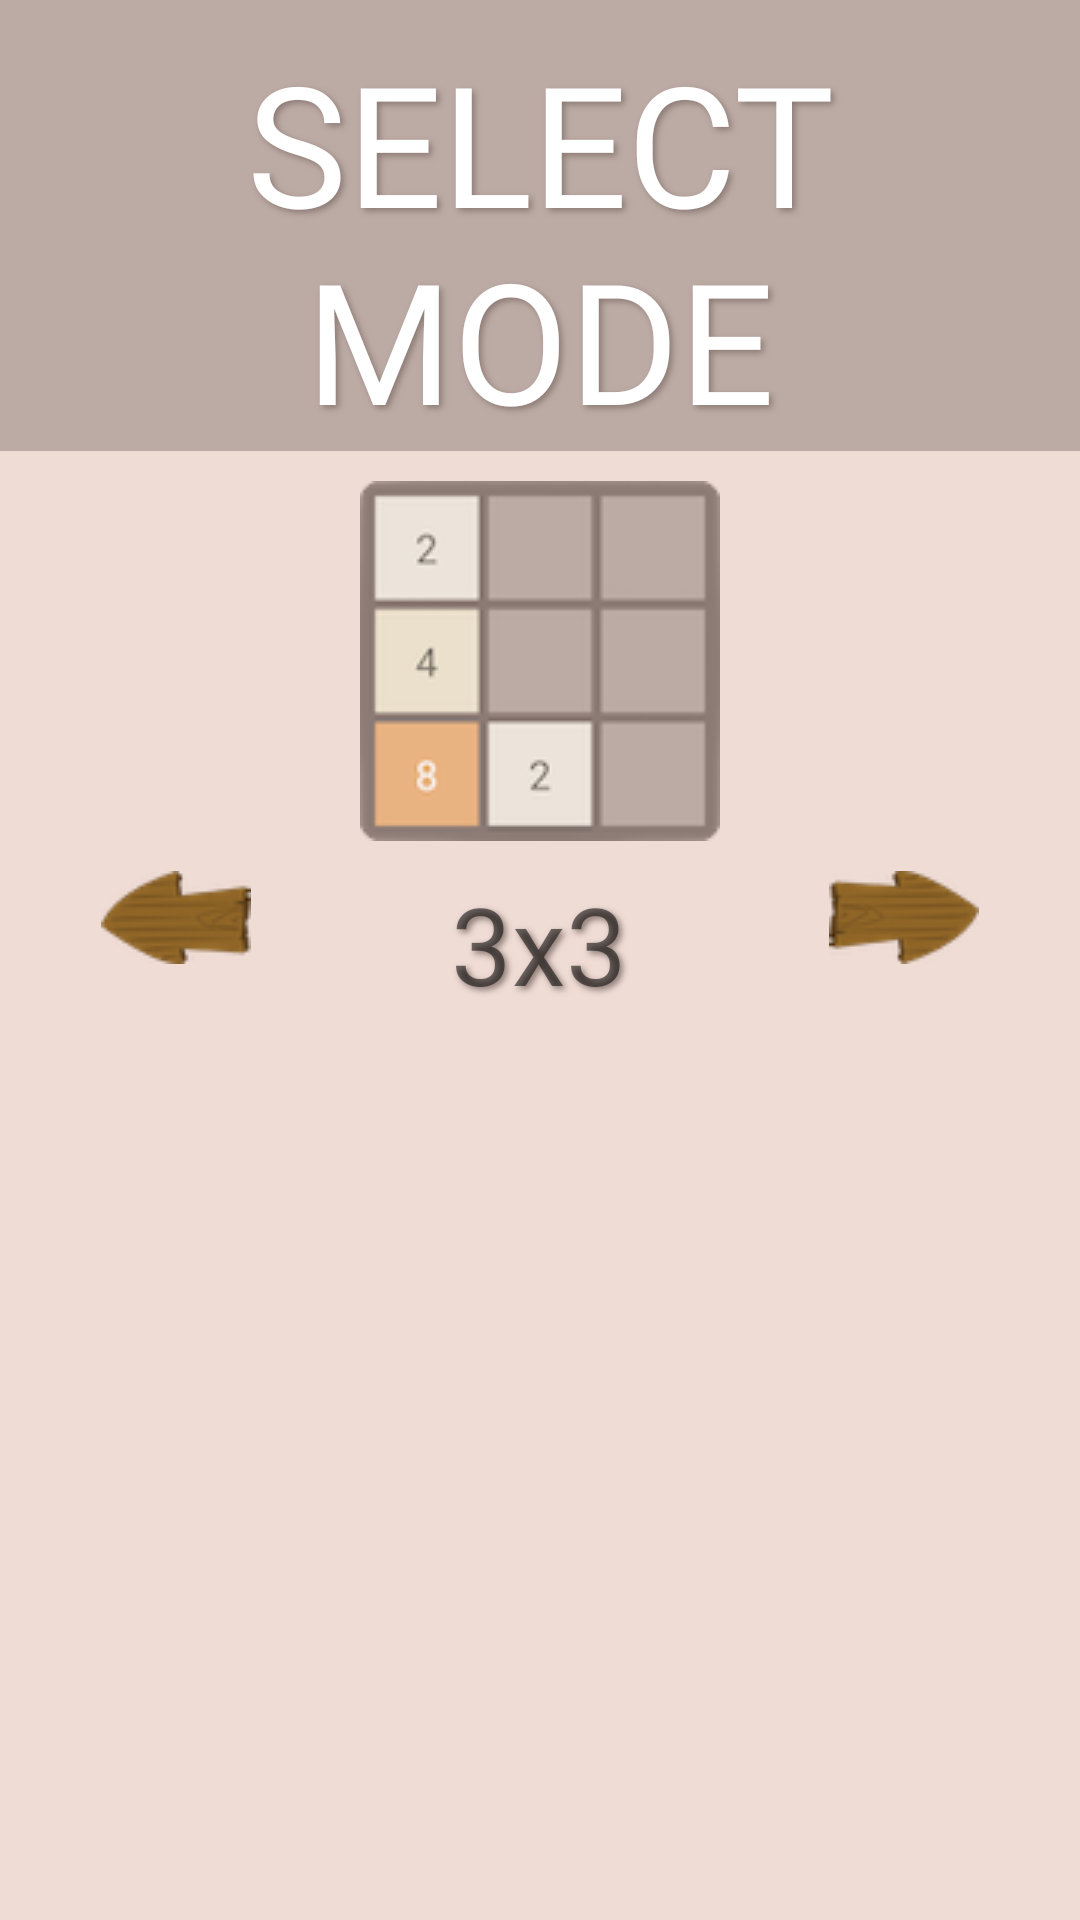

Icon click points for this 1080px x 1920px phone screenshot, format (x=x, y=y):
game: (x=540, y=661)
left arrow: (x=176, y=917)
right arrow: (x=904, y=917)
